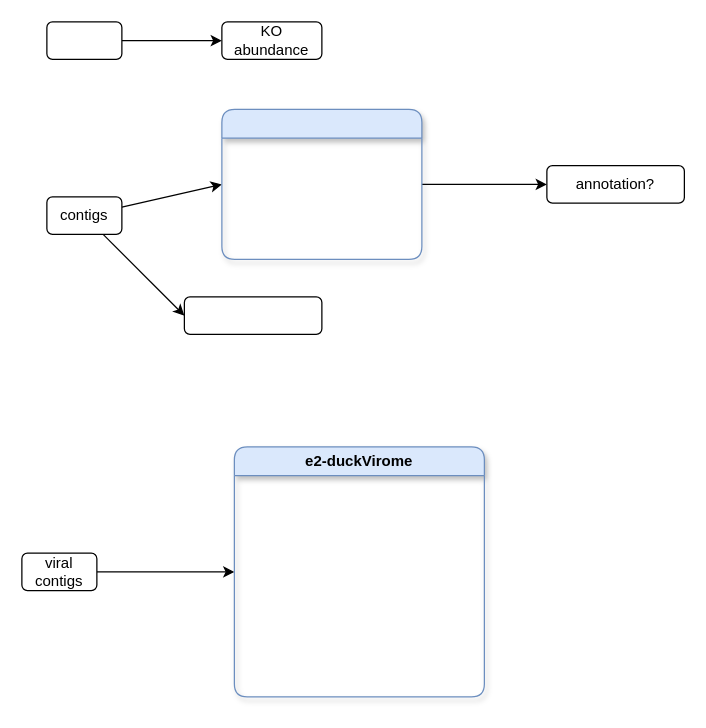
The diagram is 706 pixels wide and 728 high, and some of its shapes have lost their labels. Here are the shapes that lost their labels. From the top down, the centre of each, then its label:
At point 84,40: "humann3".
At point 322,185: "MAG".
At point 252,315: "annotation".
